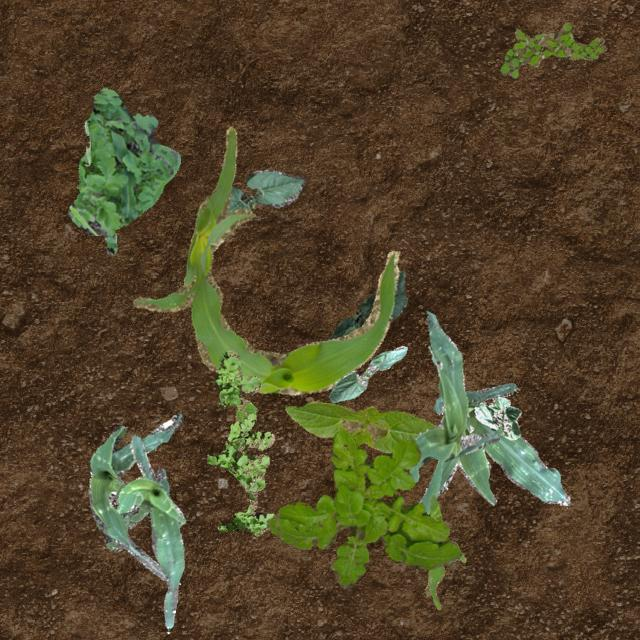crop: (132, 125, 398, 394), (418, 382, 568, 514), (88, 412, 182, 580), (408, 309, 498, 482), (116, 433, 184, 628), (284, 400, 434, 452), (328, 270, 408, 338), (424, 494, 466, 608), (328, 344, 407, 402), (227, 168, 306, 212), (472, 396, 520, 438)
weed: (264, 428, 460, 588), (66, 86, 180, 254), (206, 348, 274, 536), (500, 21, 606, 78), (92, 478, 148, 550)
